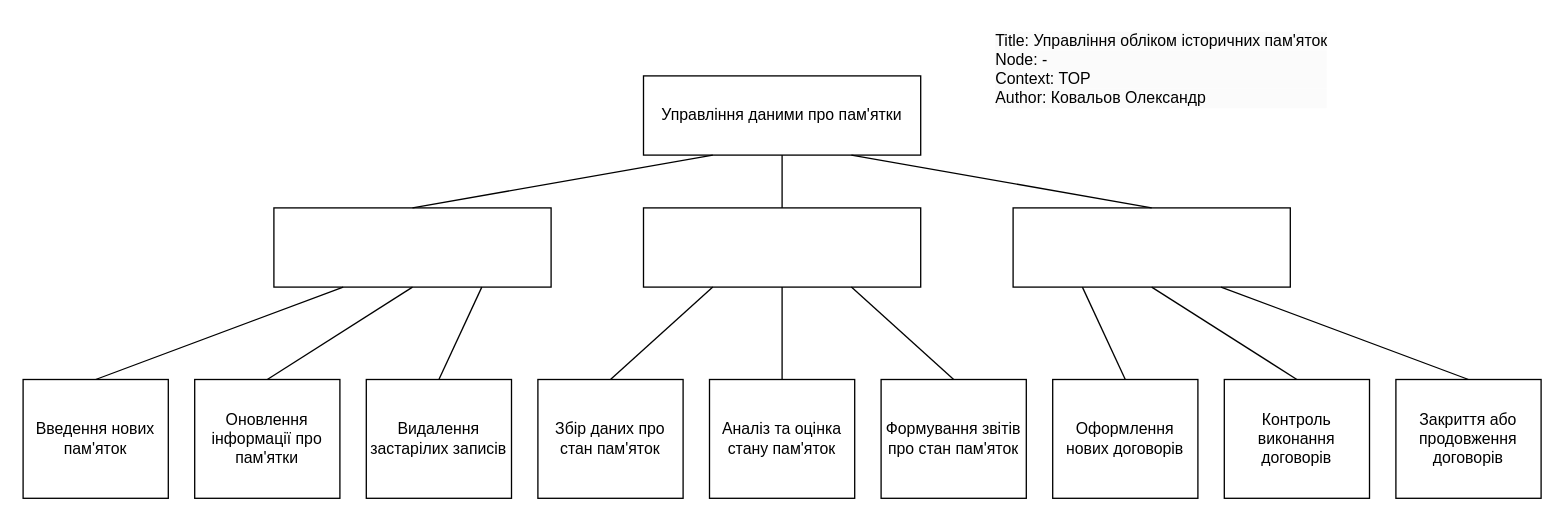
Image size: 1564x521. Some labels were removed from this diagram. The centre of each missing label's shape, as x and y in pixels:
"Моніторинг стану пам'яток" belongs at point 781,247.
"Реєстрація та оновлення даних про пам'ятки" belongs at point 412,247.
"Управління договорами на експлуатацію" belongs at point 1151,247.
